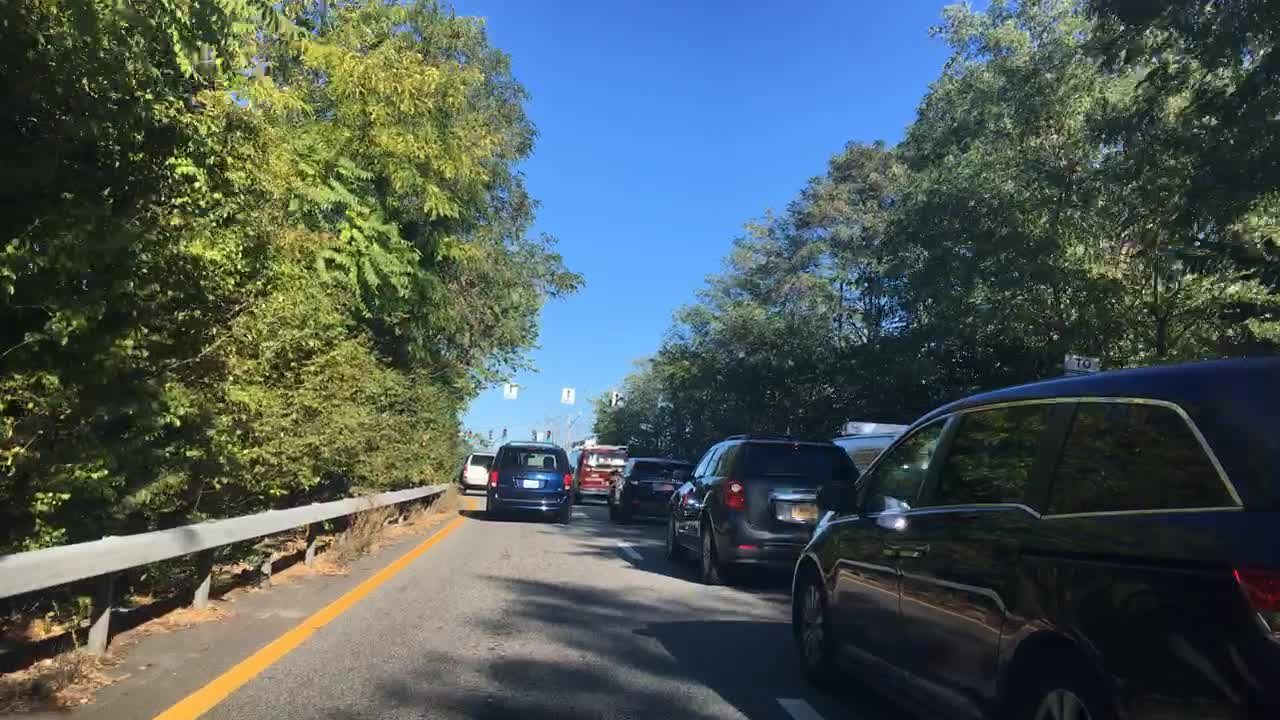car: (783, 355, 1278, 718), (662, 435, 862, 583), (481, 439, 578, 524), (604, 453, 698, 524), (828, 419, 910, 481), (566, 443, 633, 506), (459, 451, 494, 494)
traffic light: (544, 429, 553, 442), (530, 428, 538, 440), (465, 429, 473, 441), (485, 430, 494, 440), (500, 427, 508, 437)
traffic sign: (1062, 353, 1102, 376), (502, 381, 520, 401), (558, 387, 577, 403), (610, 391, 624, 409)
